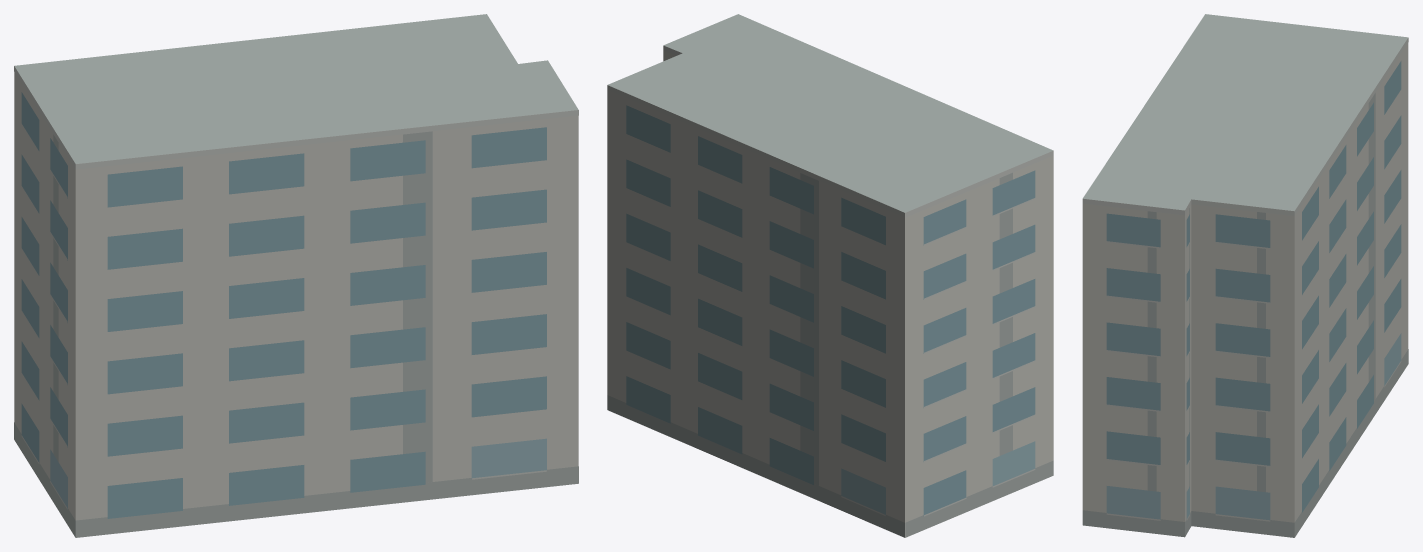
File: survey-upis-32546182.glb
3 renders of one model, left to right at view 1: azimuth 30°, elevation 25°; view 2: azimuth 150°, elevation 25°; view 3: azimuth 270°, elevation 25°, orthographic. The views are drawn at different scales.
Parts seen in each view (by area): view 1: survey-upis-32546182.tmp; view 2: survey-upis-32546182.tmp; view 3: survey-upis-32546182.tmp.
Part boxes in pixels (bbox=[...]): survey-upis-32546182.tmp: bbox=[14, 14, 578, 537]; survey-upis-32546182.tmp: bbox=[607, 14, 1053, 537]; survey-upis-32546182.tmp: bbox=[1082, 14, 1408, 537].
Size of the model in its own units: 20.85 by 16.1 by 14.57.
